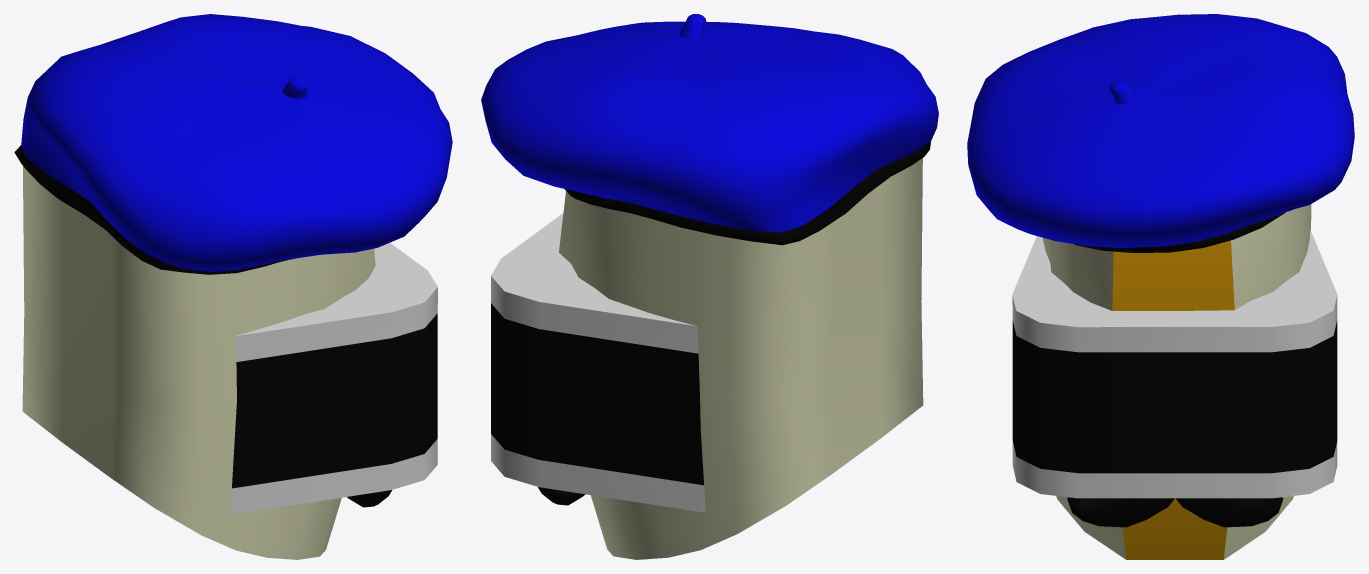
File: HeadVRtistry.fbx
3 views of the same model, side by side, from view 1: azimuth 30°, elevation 25°; view 2: azimuth 150°, elevation 25°; view 3: azimuth 270°, elevation 25° (orthographic). The views are drawn at different scales.
Visible parts, largest first — view 1: HeadVRtistry; view 2: HeadVRtistry; view 3: HeadVRtistry.
Part boxes in pixels (box(x1,y1,x2,y2)): HeadVRtistry: box(14, 14, 452, 559); HeadVRtistry: box(481, 14, 938, 559); HeadVRtistry: box(967, 14, 1354, 559).
Size of the model in its own units: 1.85 by 2.36 by 1.79.
